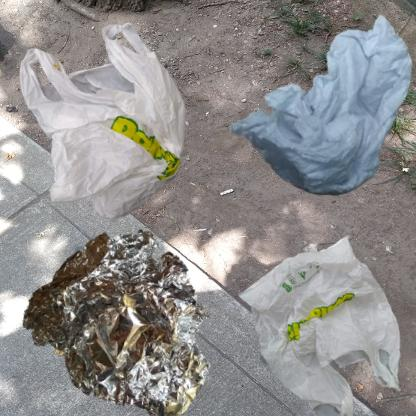aluminio: (10, 213, 233, 416)
bolsa: (10, 10, 222, 252), (213, 213, 416, 416)
papel: (213, 10, 416, 220)
